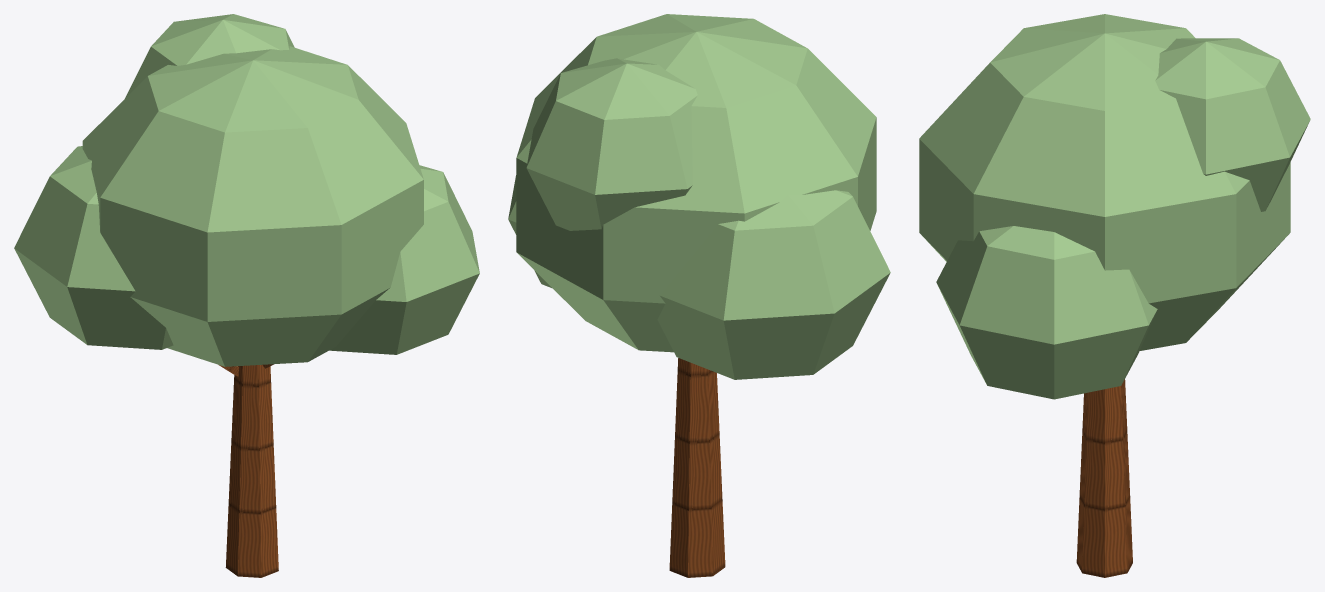
The model's file is tree-broadleaf.glb.
3 renders of one model, left to right at view 1: azimuth 30°, elevation 25°; view 2: azimuth 150°, elevation 25°; view 3: azimuth 270°, elevation 25°, orthographic. The views are drawn at different scales.
Parts seen in each view (by area): view 1: park-tree-broadleaf-grass, park-tree-broadleaf-timber; view 2: park-tree-broadleaf-grass, park-tree-broadleaf-timber; view 3: park-tree-broadleaf-grass, park-tree-broadleaf-timber.
Boxes of the visible parts, x1,y1,x2,y2 form: park-tree-broadleaf-grass: (14,14,479,366); park-tree-broadleaf-timber: (219,364,278,577); park-tree-broadleaf-grass: (508,14,890,379); park-tree-broadleaf-timber: (669,358,725,577); park-tree-broadleaf-grass: (919,14,1310,399); park-tree-broadleaf-timber: (1076,379,1132,577).
Bounding box in the file's own units: 3.19 × 4.07 × 2.71.
Materials: 2 (1 with a texture image).
